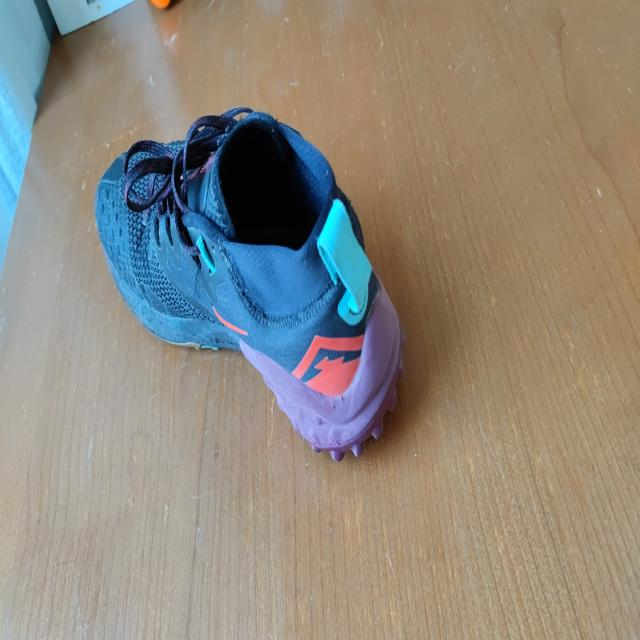shoes: (94, 105, 404, 461)
